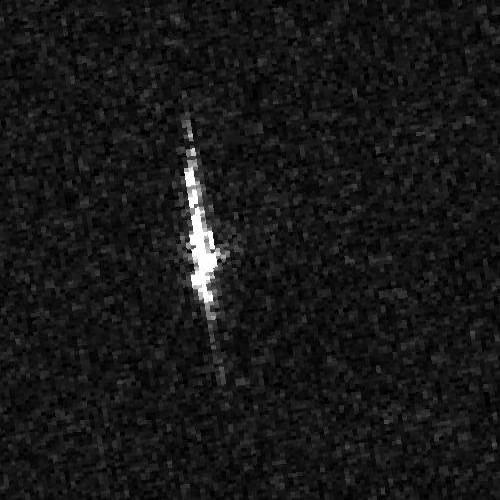ship: (182, 145, 220, 322)
